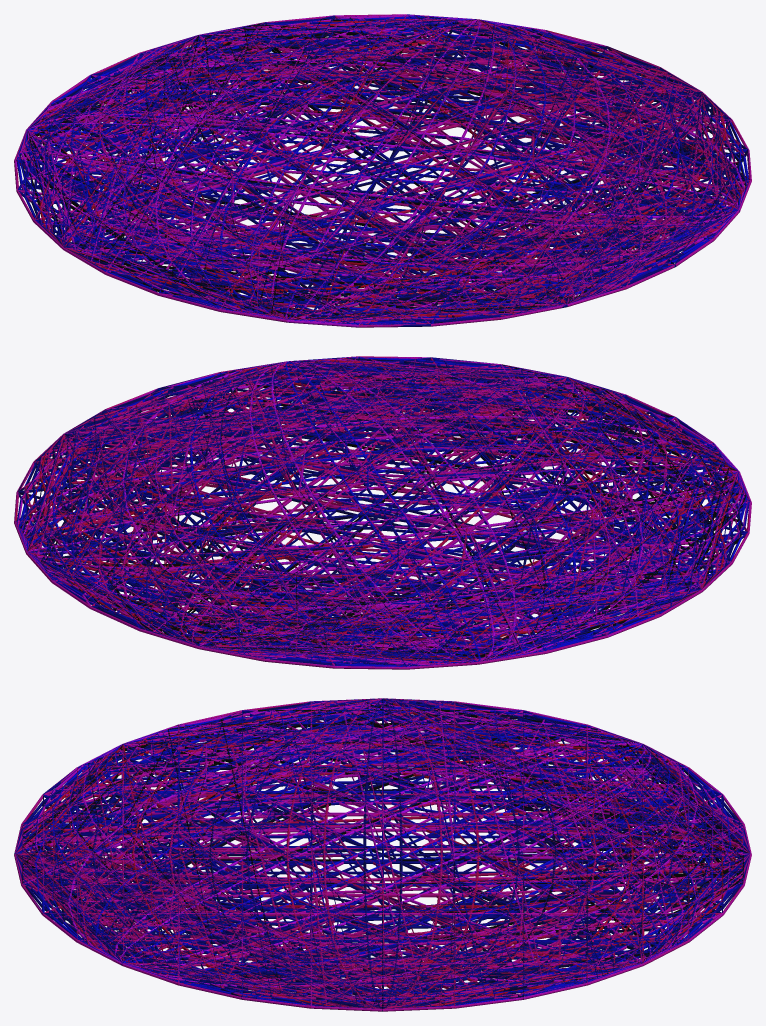
File: funny_rug.fbx
3 renders of one model, top to bottom at view 1: azimuth 30°, elevation 25°; view 2: azimuth 150°, elevation 25°; view 3: azimuth 270°, elevation 25°, orthographic.
Visible parts, largest first — view 1: Circle; view 2: Circle; view 3: Circle.
Part boxes in pixels (x1,y1,x2,y2): Circle: [14, 14, 751, 327]; Circle: [14, 356, 751, 669]; Circle: [14, 698, 751, 1011].
Size of the model in its own units: 806 by 3.21 by 806.
